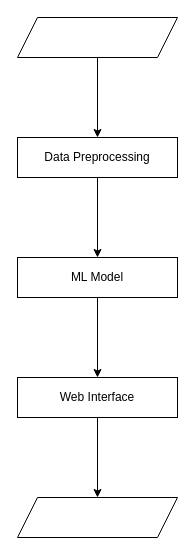
The diagram is 195 pixels wide and 555 high, and some of its shapes have lost their labels. Each missing label, with the centre of its shape:
"End User" belongs at pixel 97 517.
"IOT Weather Sensors" belongs at pixel 97 37.
